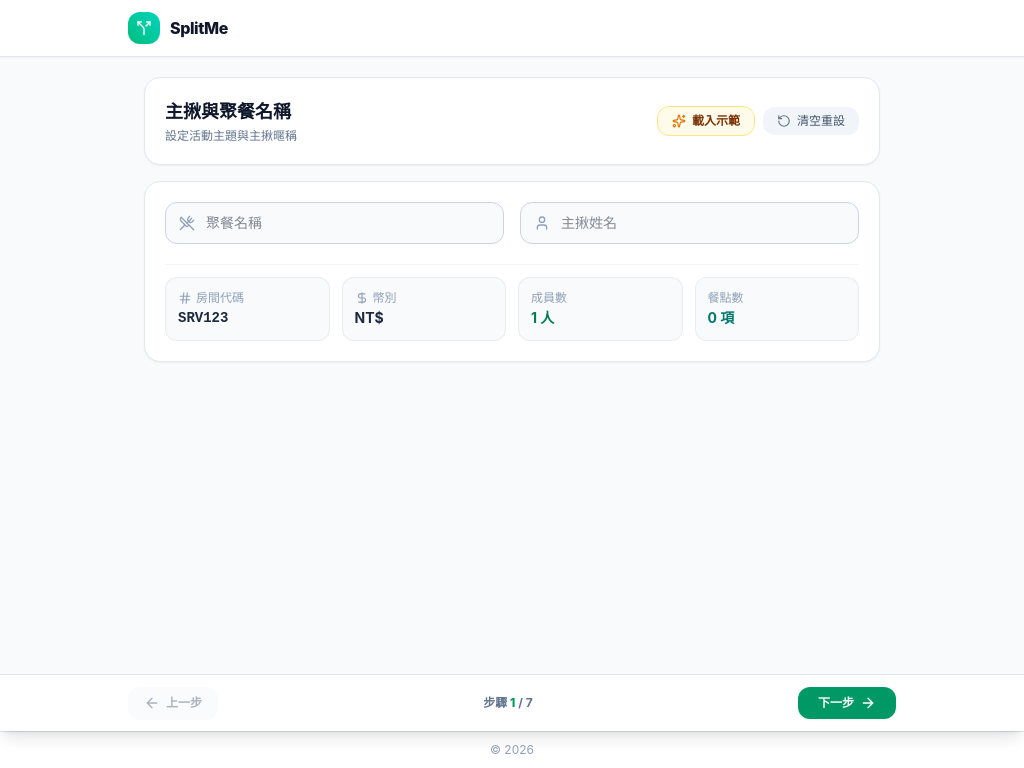
Test: App 7-Step Wizard Integration › allows navigating forward and backward through steps
The width and height of the screenshot is (1024, 768).
Click Next
What coordinates should you click on to do the following:
click the button "下一步"
I would click on:
 (847, 703)
Its box is [798, 687, 896, 719].
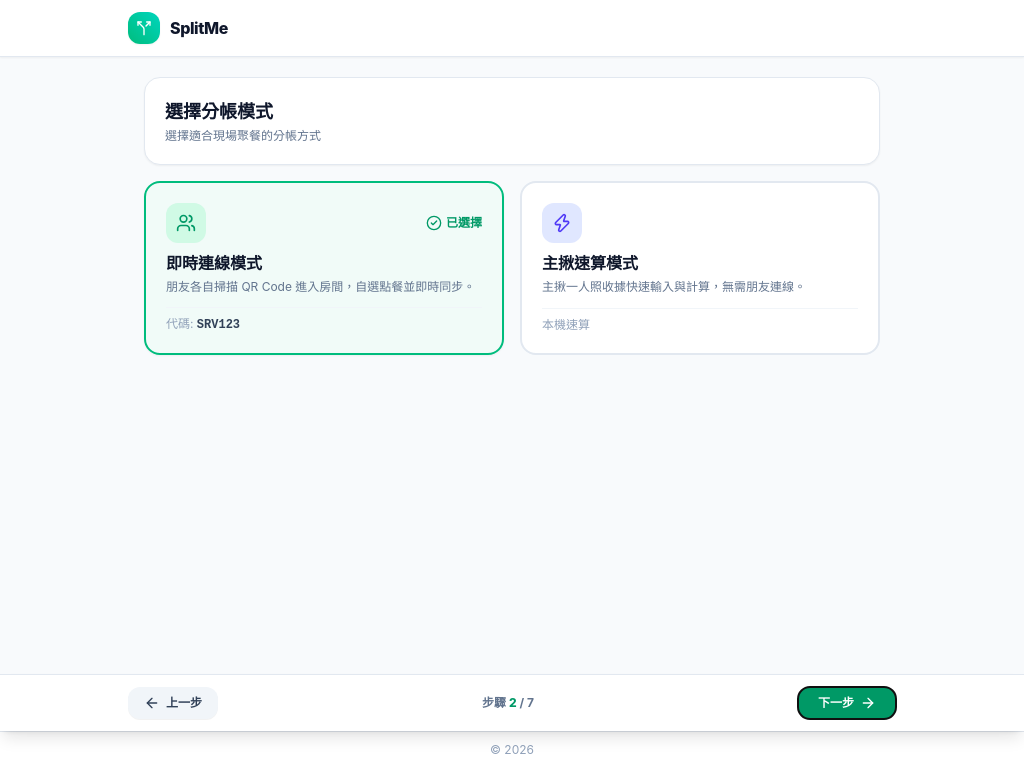
Check: the heading "即時連線模式" is shown, box [166, 253, 262, 273]
Check: the heading "主揪速算模式" is shown, box [542, 253, 638, 273]
What coordinates should you click on to do the following:
click the button "下一步"
I would click on:
 (847, 703)
Its box is [798, 687, 896, 719].
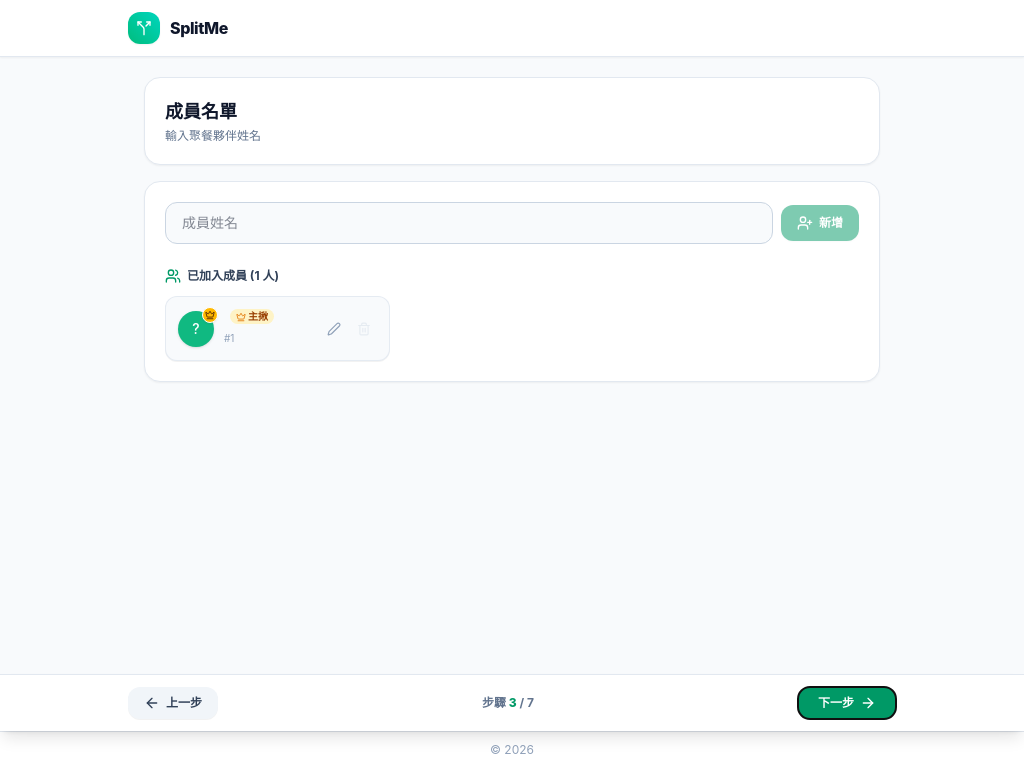
Check: the heading "成員名單" is shown, box [165, 101, 237, 122]
What coordinates should you click on to do the following:
click the button "上一步"
I would click on:
 (173, 703)
Its box is [128, 687, 218, 719].
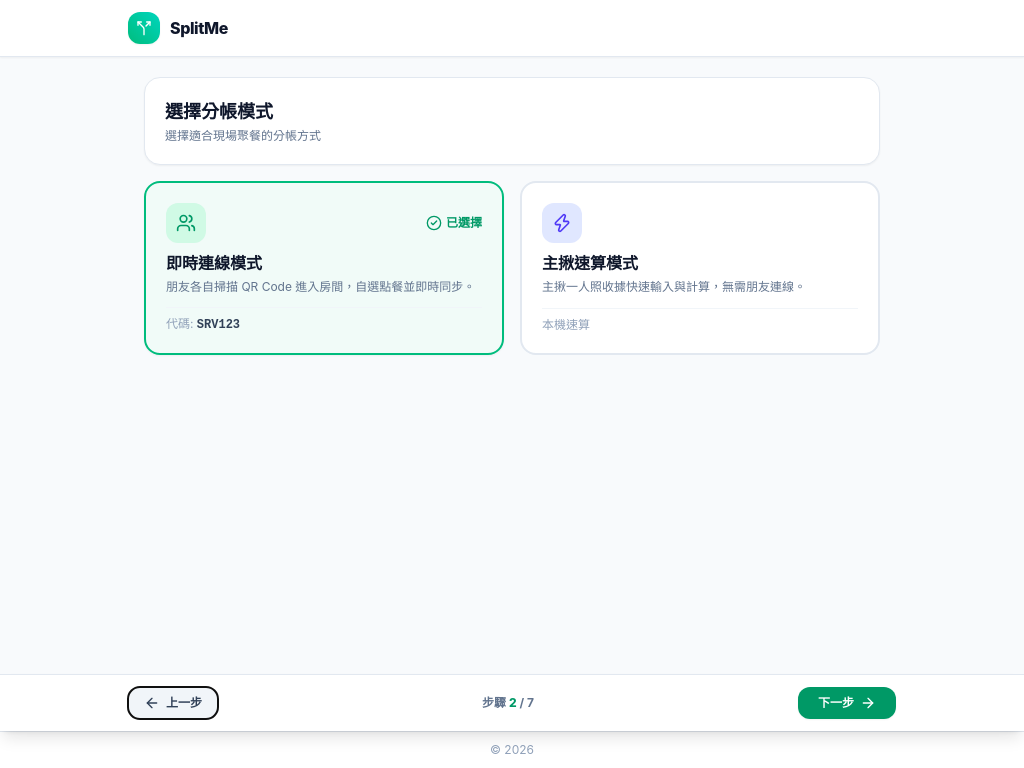
Check: the heading "即時連線模式" is shown, box [166, 253, 262, 273]
